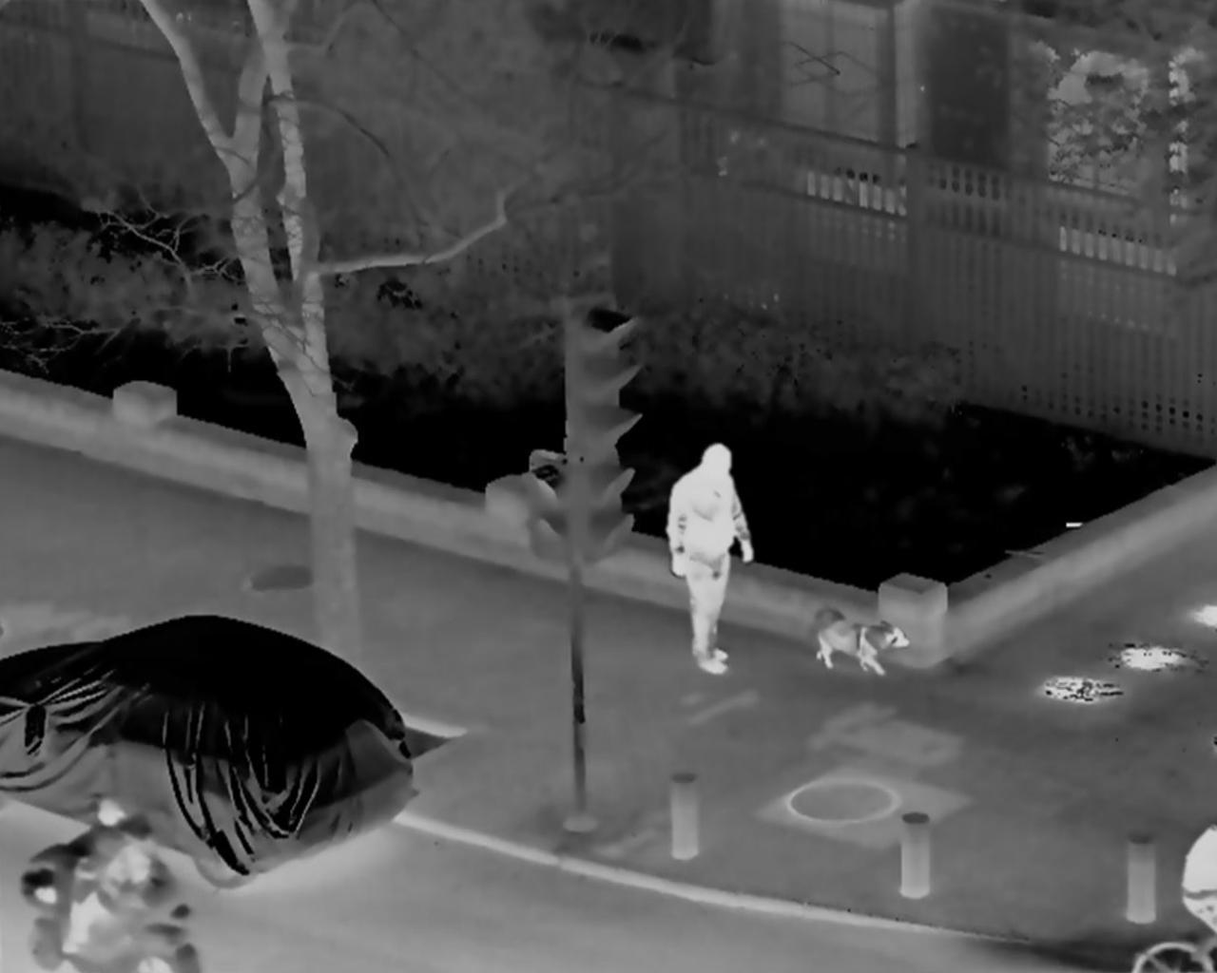person: (655, 443, 752, 668), (61, 800, 166, 962)
